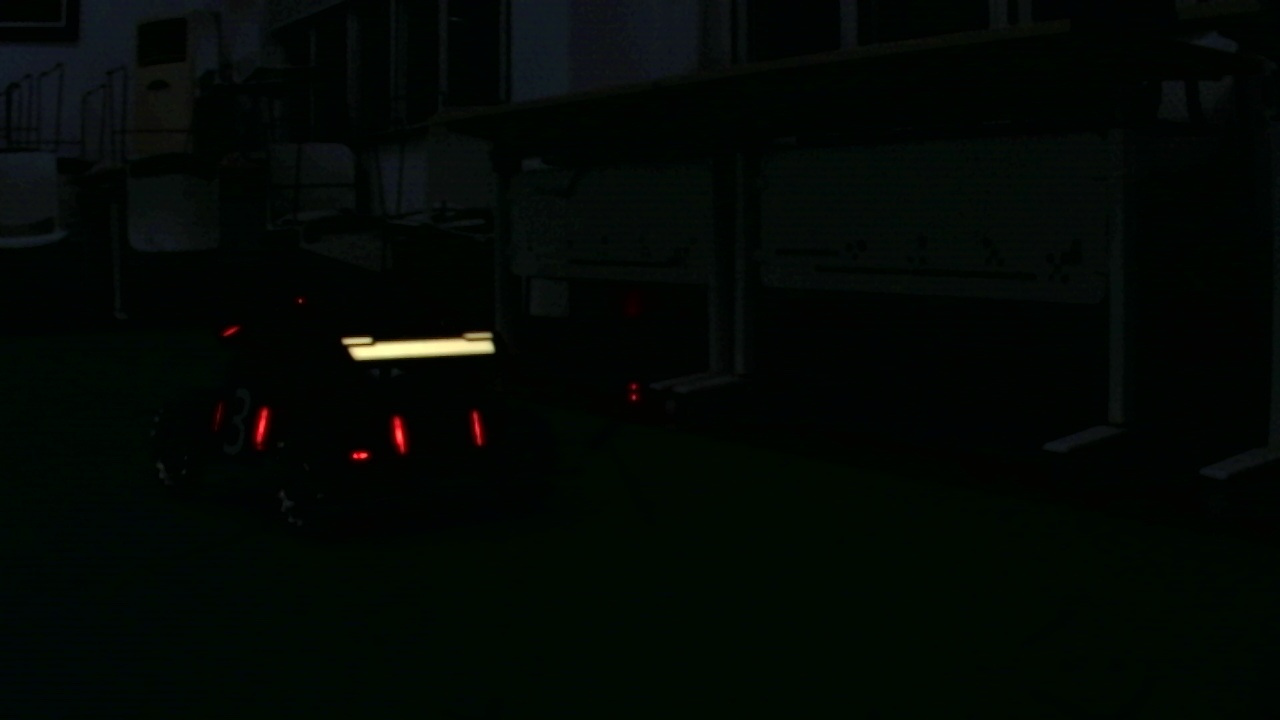lamp: (389, 406, 408, 457), (254, 398, 268, 452), (469, 409, 484, 450)
notpair1: (251, 402, 408, 456)
pair1: (390, 412, 487, 456)
